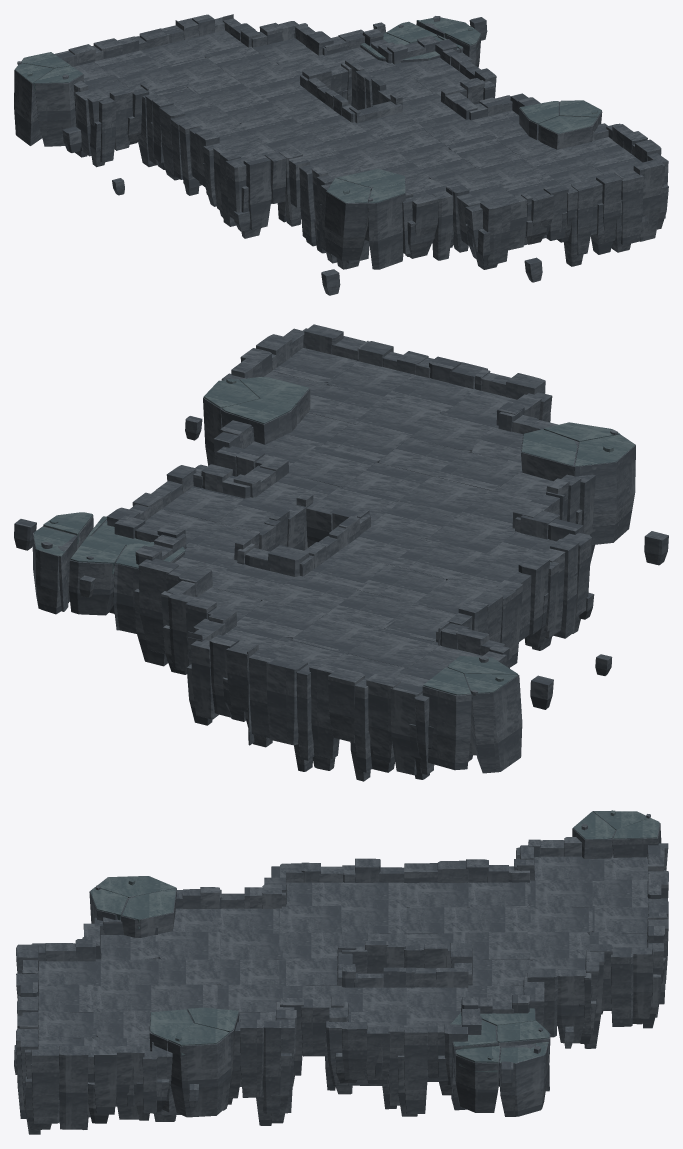
Rendered from chapter2_stage6_geology.glb.
The picture shows the model from 3 angles, top to bottom: view 1: azimuth 30°, elevation 25°; view 2: azimuth 150°, elevation 25°; view 3: azimuth 270°, elevation 25°; orthographic projection. The views are drawn at different scales.
Parts seen in each view (by area): view 1: stage6_continuous_rock_strata; view 2: stage6_continuous_rock_strata; view 3: stage6_continuous_rock_strata.
Part boxes in pixels (x1=…): stage6_continuous_rock_strata: x1=14, y1=14, x2=668, y2=295; stage6_continuous_rock_strata: x1=14, y1=324, x2=668, y2=781; stage6_continuous_rock_strata: x1=14, y1=810, x2=668, y2=1134.
Size of the model in its own units: 9.42 by 1.97 by 10.57.
Materials: 2 (2 with a texture image).
